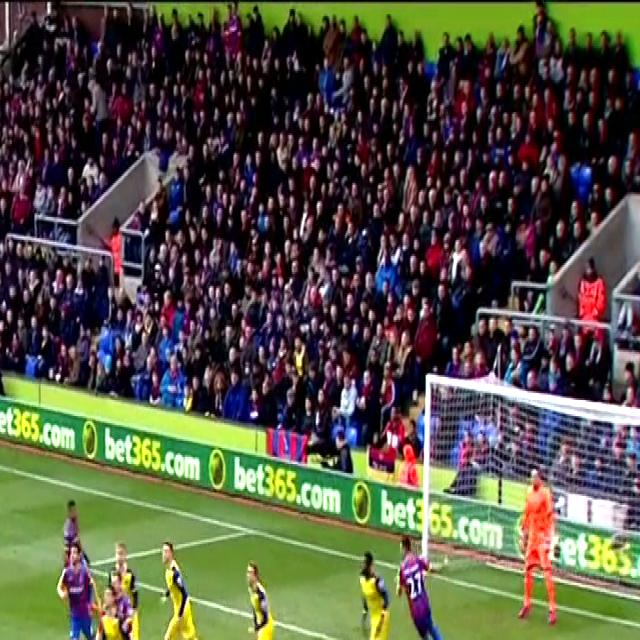goalkeeper: (518, 466, 563, 635)
soccer-player: (157, 524, 219, 640), (394, 531, 457, 640), (349, 542, 395, 640), (236, 547, 284, 640), (109, 528, 148, 640), (54, 489, 88, 616), (60, 542, 103, 640)
